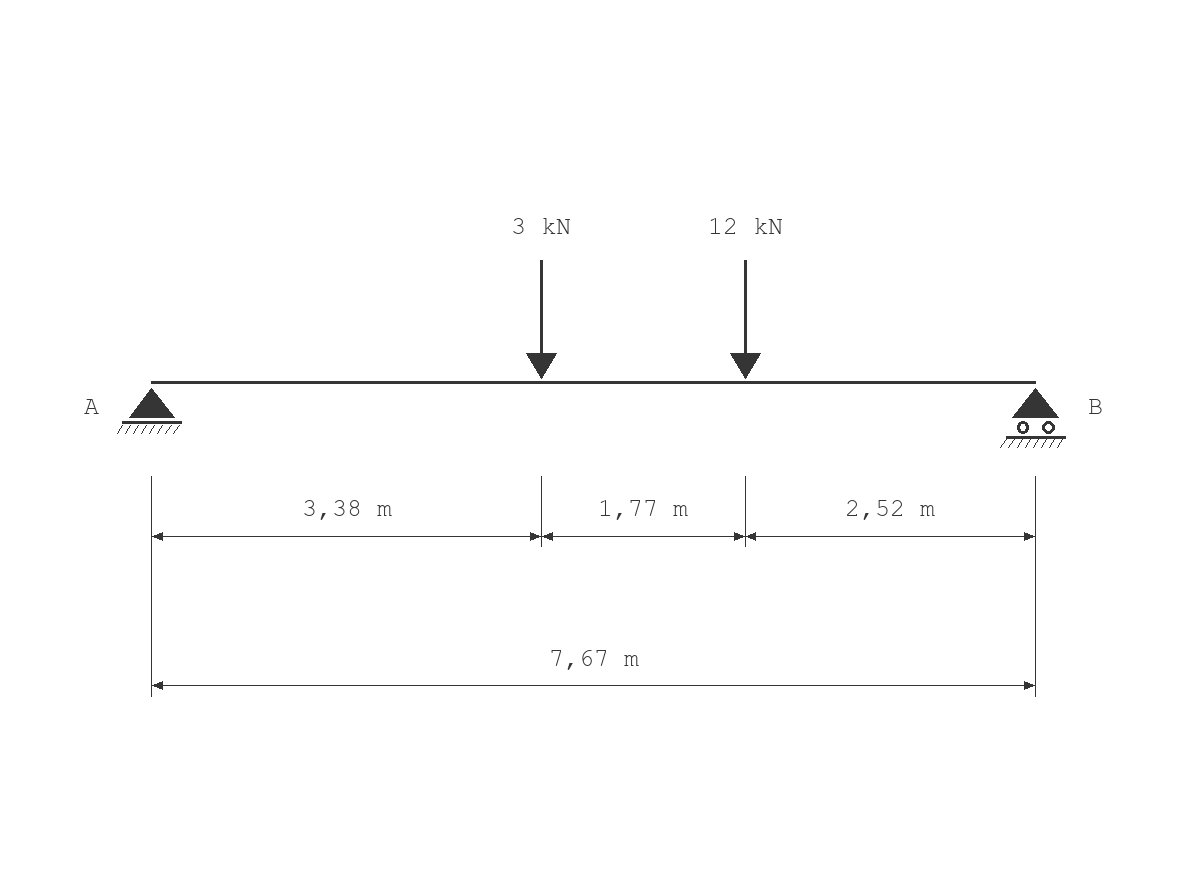pin_support: (117, 388, 182, 434)
point_load: (526, 260, 557, 379), (730, 260, 761, 379)
roller_support: (1000, 388, 1066, 448)
